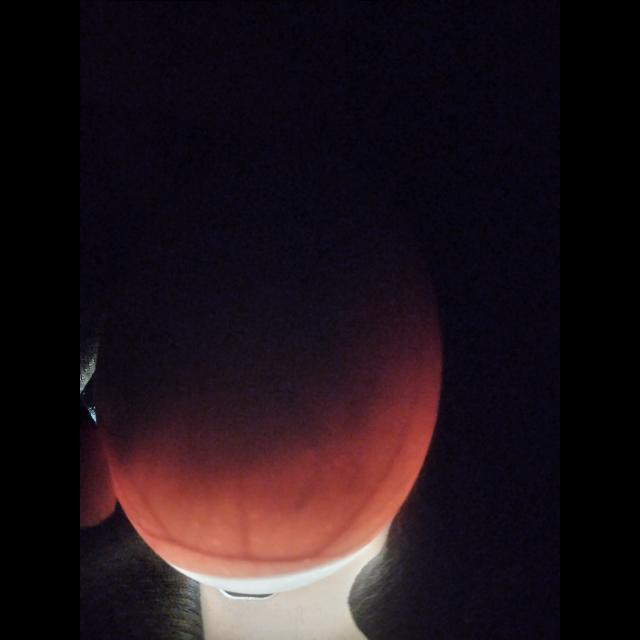Fertile: (97, 154, 450, 594)
